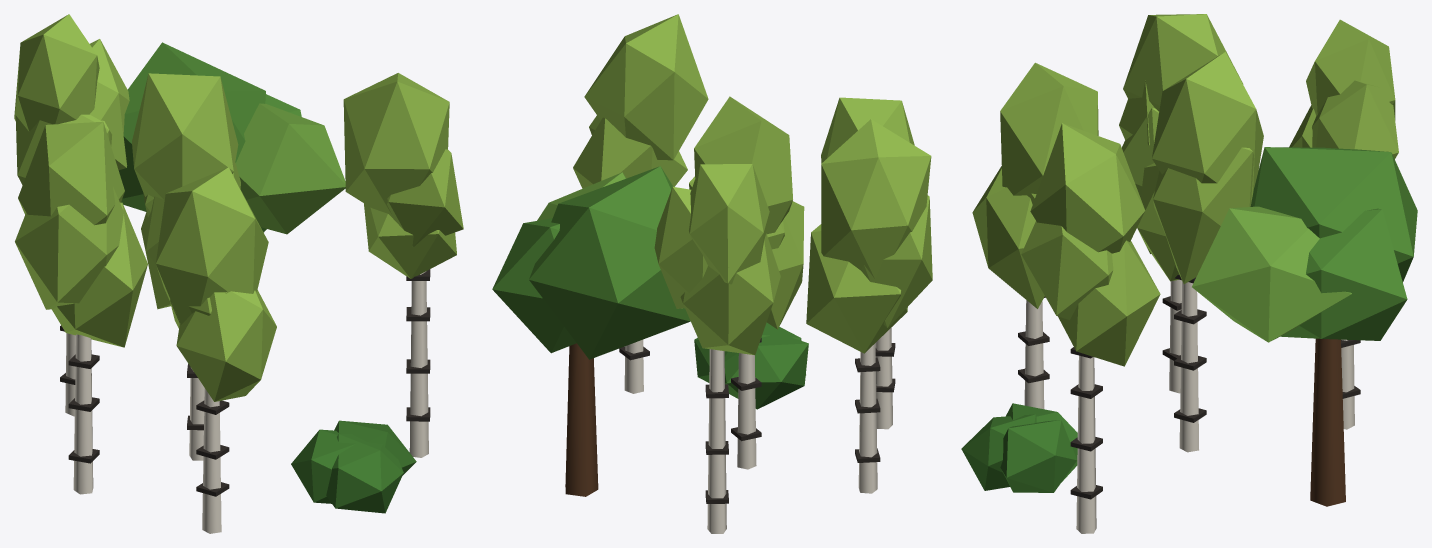
Rendered from sawyer_birch_copse_a.glb.
3 renders of one model, left to right at view 1: azimuth 30°, elevation 25°; view 2: azimuth 150°, elevation 25°; view 3: azimuth 270°, elevation 25°, orthographic. The views are drawn at different scales.
Visible parts, largest first — view 1: birch_2_crown2, birch_3_crown2, birch_0_crown2, oak_5_crown1, birch_6_crown2, birch_2_crown0, birch_6_crown1, birch_1_crown2, birch_6_crown0, oak_5_crown2, bush_4_leaves2, birch_3_crown1 (+11 smaller); view 2: oak_5_crown2, birch_6_crown2, birch_3_crown2, birch_1_crown2, birch_1_crown0, birch_6_crown0, birch_0_crown2, oak_5_crown0, oak_5_trunk, birch_3_crown0, birch_1_crown1, bush_4_leaves0 (+10 smaller); view 3: oak_5_crown1, oak_5_crown2, birch_0_crown2, birch_3_crown2, oak_5_crown0, birch_2_crown2, birch_0_crown1, birch_3_crown0, birch_6_crown2, birch_3_crown1, oak_5_trunk, birch_2_crown0 (+14 smaller).
Boxes of the visible parts, left/top/right/bottom form: birch_2_crown2: left=155, top=167, right=268, bottom=324; birch_3_crown2: left=343, top=73, right=449, bottom=216; birch_0_crown2: left=132, top=73, right=238, bottom=199; oak_5_crown1: left=235, top=103, right=345, bottom=234; birch_6_crown2: left=18, top=121, right=124, bottom=225; birch_2_crown0: left=176, top=290, right=276, bottom=401; birch_6_crown1: left=15, top=187, right=132, bottom=309; birch_1_crown2: left=14, top=14, right=99, bottom=131; birch_6_crown0: left=52, top=202, right=147, bottom=347; oak_5_crown2: left=118, top=42, right=265, bottom=211; bush_4_leaves2: left=326, top=434, right=403, bottom=513; birch_3_crown1: left=387, top=149, right=463, bottom=246; oak_5_crown2: left=529, top=166, right=690, bottom=359; birch_6_crown2: left=821, top=119, right=931, bottom=278; birch_3_crown2: left=584, top=14, right=708, bottom=160; birch_1_crown2: left=689, top=164, right=769, bottom=284; birch_1_crown0: left=680, top=233, right=780, bottom=355; birch_6_crown0: left=806, top=224, right=907, bottom=353; birch_0_crown2: left=694, top=96, right=792, bottom=234; oak_5_crown0: left=492, top=218, right=576, bottom=353; oak_5_trunk: left=565, top=343, right=598, bottom=496; birch_3_crown0: left=573, top=117, right=687, bottom=188; birch_1_crown1: left=654, top=187, right=707, bottom=308; bush_4_leaves0: left=724, top=328, right=808, bottom=409; oak_5_crown1: left=1192, top=206, right=1351, bottom=342; oak_5_crown2: left=1250, top=147, right=1417, bottom=282; birch_0_crown2: left=1152, top=51, right=1263, bottom=203; birch_3_crown2: left=1030, top=123, right=1145, bottom=253; oak_5_crown0: left=1280, top=208, right=1407, bottom=340; birch_2_crown2: left=1000, top=62, right=1098, bottom=195; birch_0_crown1: left=1153, top=147, right=1258, bottom=284; birch_3_crown0: left=1058, top=240, right=1160, bottom=366; birch_6_crown2: left=1123, top=14, right=1243, bottom=111; birch_3_crown1: left=1021, top=221, right=1113, bottom=319; oak_5_trunk: left=1310, top=338, right=1345, bottom=506; birch_2_crown0: left=972, top=166, right=1044, bottom=308.
Size of the model in its own units: 3.87 by 3.66 by 3.86.
